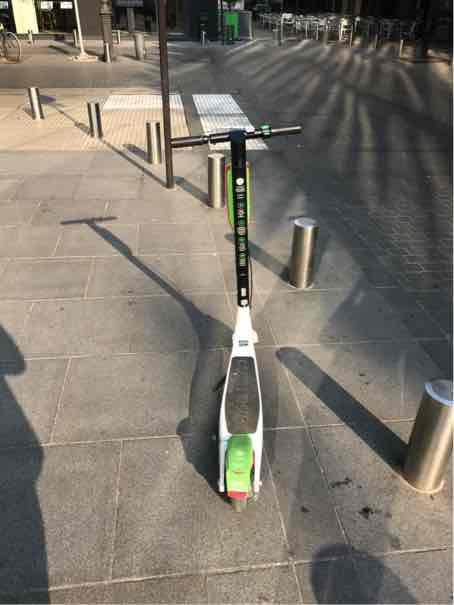scooter: (162, 119, 312, 508)
